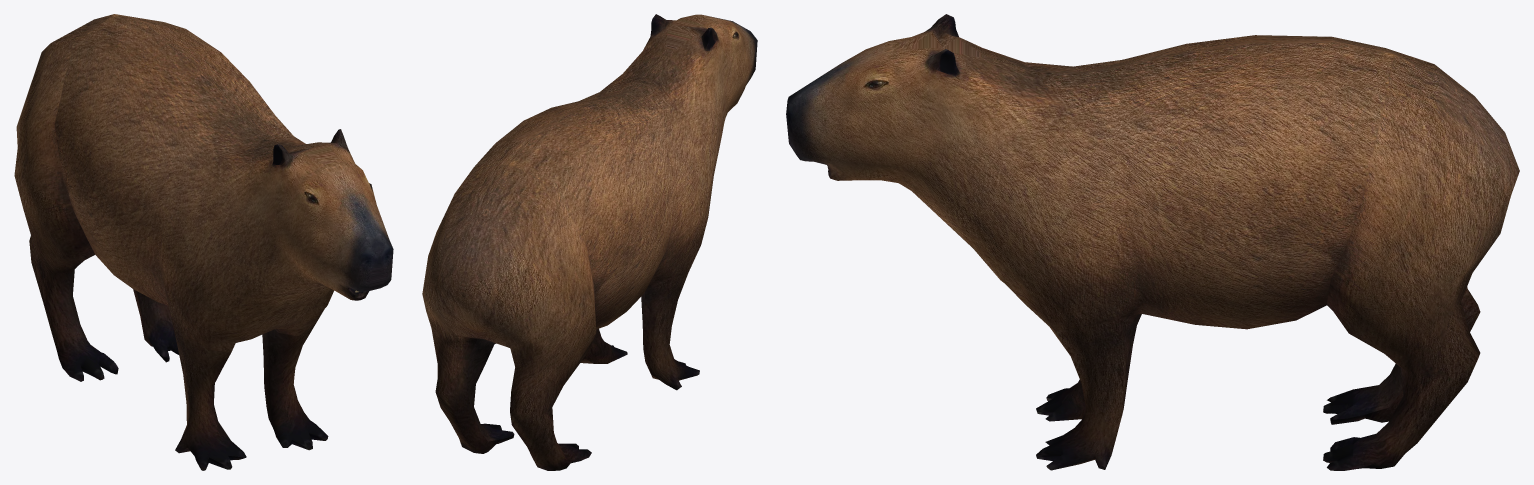
File: Capybara.glb
3 views of the same model, side by side, from view 1: azimuth 30°, elevation 25°; view 2: azimuth 150°, elevation 25°; view 3: azimuth 270°, elevation 25° (orthographic). The views are drawn at different scales.
Parts seen in each view (by area): view 1: Obj3d66-13988926-2-35; view 2: Obj3d66-13988926-2-35; view 3: Obj3d66-13988926-2-35.
Part boxes in pixels (<box>): Obj3d66-13988926-2-35: <box>14,14,393,470</box>; Obj3d66-13988926-2-35: <box>422,14,757,470</box>; Obj3d66-13988926-2-35: <box>786,14,1519,470</box>.
Size of the model in its own units: 0.5318 by 0.9993 by 1.63.
1 material, 1 textured.
